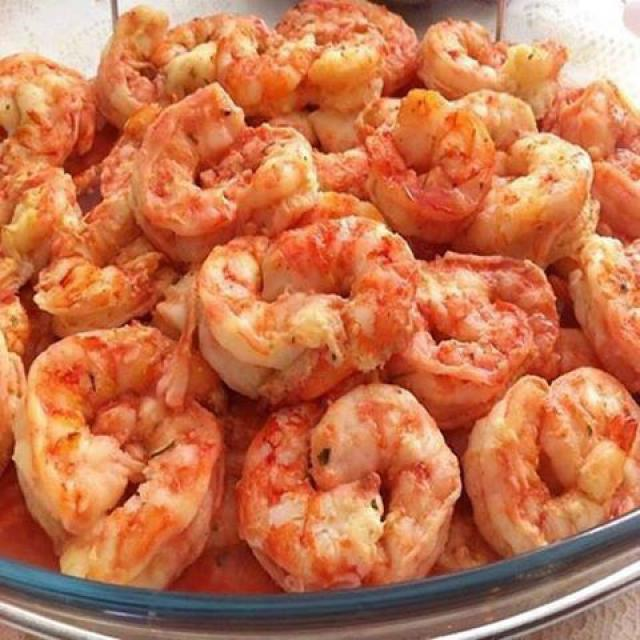camarao: (240, 391, 460, 604), (195, 227, 408, 394), (461, 374, 639, 562), (17, 324, 188, 515), (73, 396, 225, 594), (136, 82, 314, 236), (38, 188, 180, 328), (357, 111, 499, 242)
